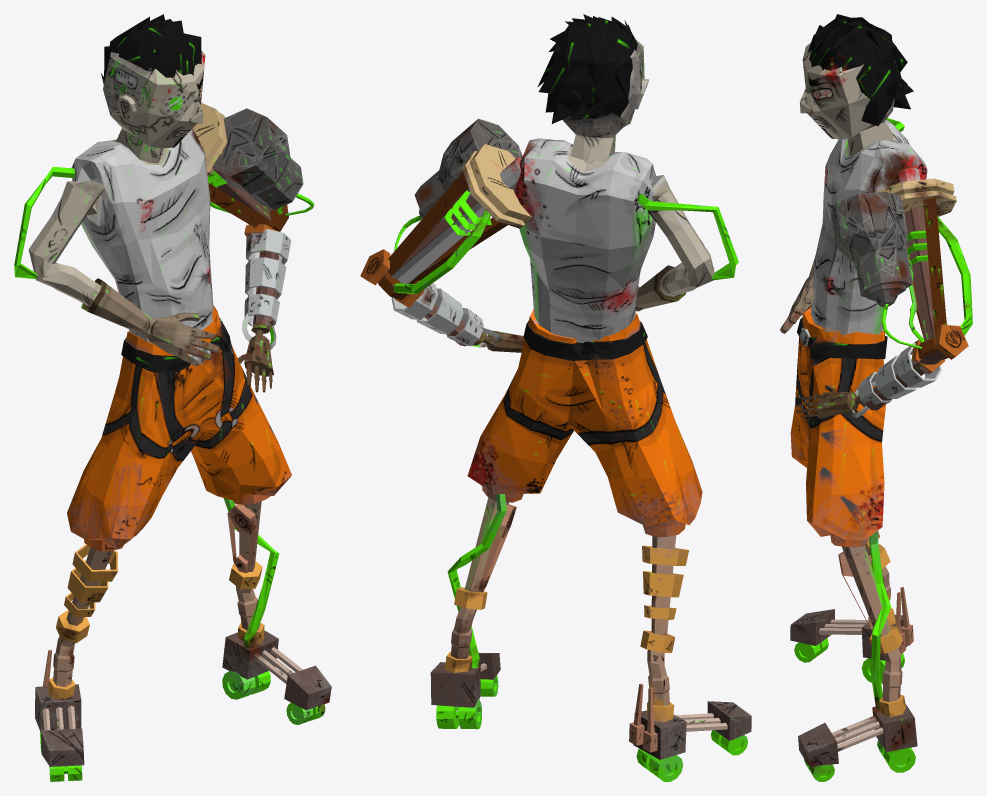
The model's file is CyborgFINALAnimation_000067.obj.
The picture shows the model from 3 angles, left to right: view 1: azimuth 30°, elevation 25°; view 2: azimuth 150°, elevation 25°; view 3: azimuth 270°, elevation 25°; orthographic projection. The views are drawn at different scales.
Visible parts, largest first — view 1: CyborgMesh_Cube.002; view 2: CyborgMesh_Cube.002; view 3: CyborgMesh_Cube.002.
Part boxes in pixels (<box>): CyborgMesh_Cube.002: <box>14,14,331,781</box>; CyborgMesh_Cube.002: <box>360,14,751,781</box>; CyborgMesh_Cube.002: <box>780,14,972,781</box>.
Bounding box in the file's own units: 4.48 × 9.6 × 2.41.
